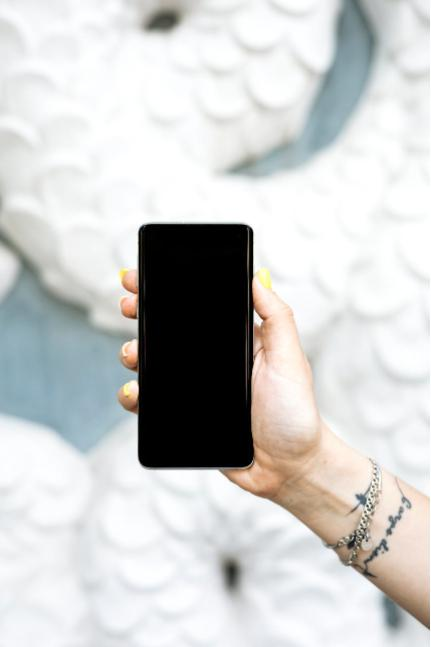mobile: (138, 221, 254, 472)
